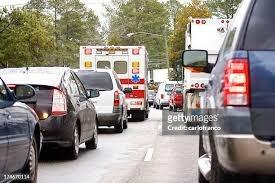AMBULANCE: (115, 44, 151, 113), (77, 43, 150, 74)
